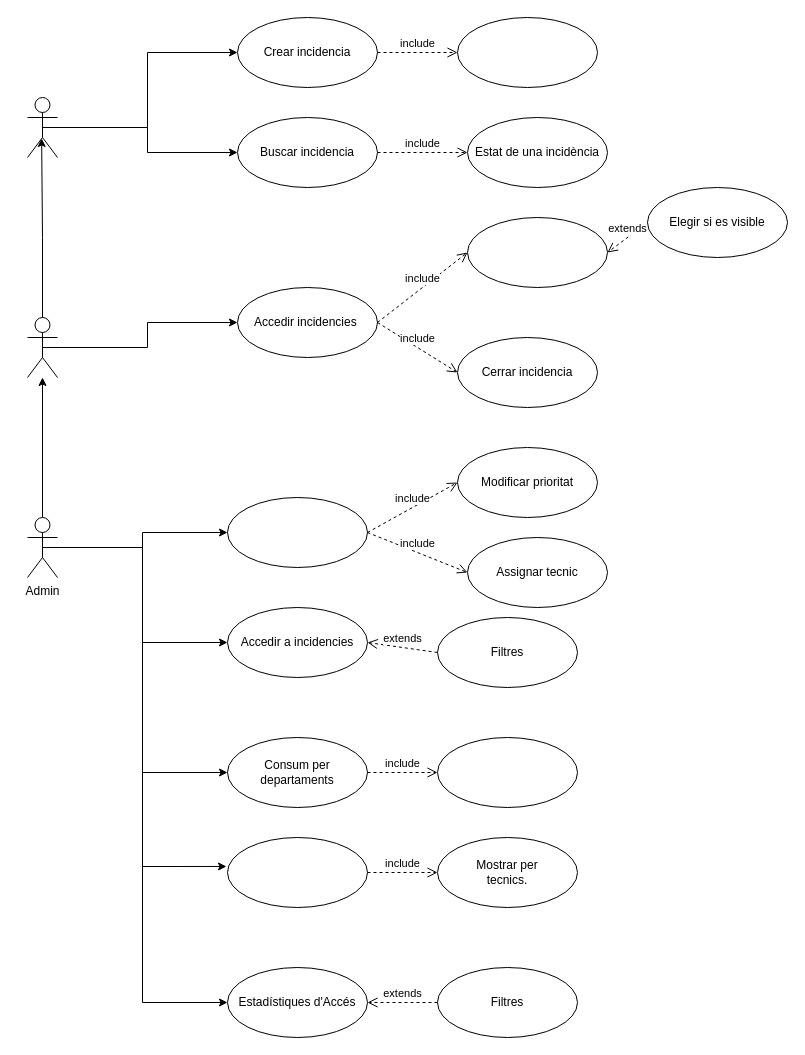
Image size: 805x1055. Some labels were removed from this diagram. Each missing label, with the centre of its shape:
"Crear actuacio" belongs at point 537,252.
"Es crea un codi de incidencia" belongs at point 527,52.
"Informe de Tècnics" belongs at point 297,872.
"Modificar incidencies no resoltes" belongs at point 297,532.
"Mostrar per departaments" belongs at point 507,772.
"Professor" belongs at point 42,127.
"Tecnico" belongs at point 42,347.
